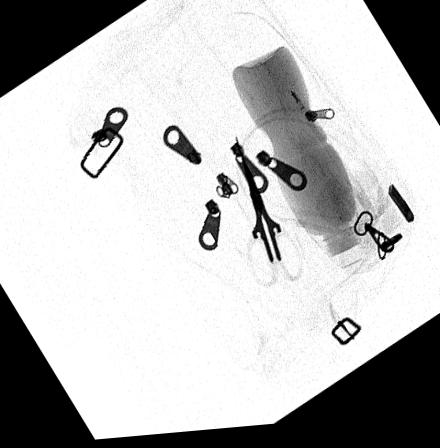Scissors: (231, 139, 306, 297)
